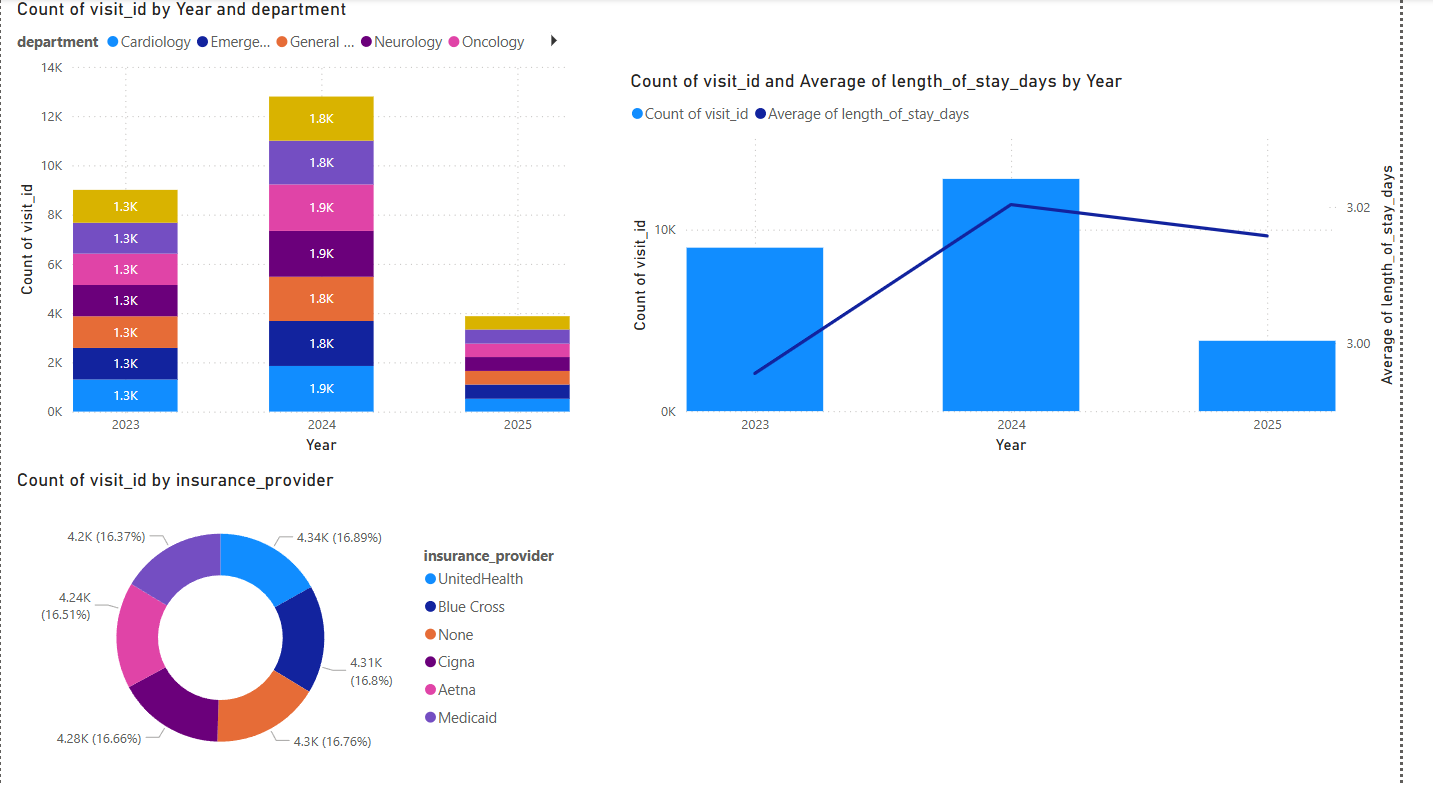

What the dashboard file says about the page in this screenshot:
{"tool":"powerbi","page":{"name":"Page 1","canvas":[1280,720],"ordinal":0},"visuals":[{"type":"columnChart","fields":{"Category":["Cleaned_Hospital_Visits_Data.visit_date.Variation.Date Hierarchy.Year","Cleaned_Hospital_Visits_Data.visit_date.Variation.Date Hierarchy.Month"],"Y":["CountNonNull(Cleaned_Hospital_Visits_Data.visit_id)"],"Series":["Cleaned_Hospital_Visits_Data.department"]},"box":[9.4,0,515.9,421.4],"z":0},{"type":"lineClusteredColumnComboChart","fields":{"Category":["Cleaned_Hospital_Visits_Data.visit_date.Variation.Date Hierarchy.Year","Cleaned_Hospital_Visits_Data.visit_date.Variation.Date Hierarchy.Month"],"Y":["CountNonNull(Cleaned_Hospital_Visits_Data.visit_id)"],"Y2":["Avg(Cleaned_Hospital_Visits_Data.length_of_stay_days)"]},"box":[570.7,66.1,708.7,355.3],"z":1},{"type":"donutChart","fields":{"Category":["Cleaned_Hospital_Visits_Data.insurance_provider"],"Y":["CountNonNull(Cleaned_Hospital_Visits_Data.visit_id)"]},"box":[9,431,516,289],"z":2}]}

Visuals, with their boxes in screenshot pixels (x1, y1, x2, y2), scaled from the page's 1280x720 canvas onto the 1433x785 screenshot:
columnChart - Cleaned_Hospital_Visits_Data.visit_date.Variation.Date Hierarchy.Year x Cleaned_Hospital_Visits_Data.visit_date.Variation.Date Hierarchy.Month: 11, 0, 588, 459
lineClusteredColumnComboChart - Cleaned_Hospital_Visits_Data.visit_date.Variation.Date Hierarchy.Year x Cleaned_Hospital_Visits_Data.visit_date.Variation.Date Hierarchy.Month: 639, 72, 1432, 459
donutChart - Cleaned_Hospital_Visits_Data.insurance_provider x CountNonNull(Cleaned_Hospital_Visits_Data.visit_id): 10, 470, 588, 784
